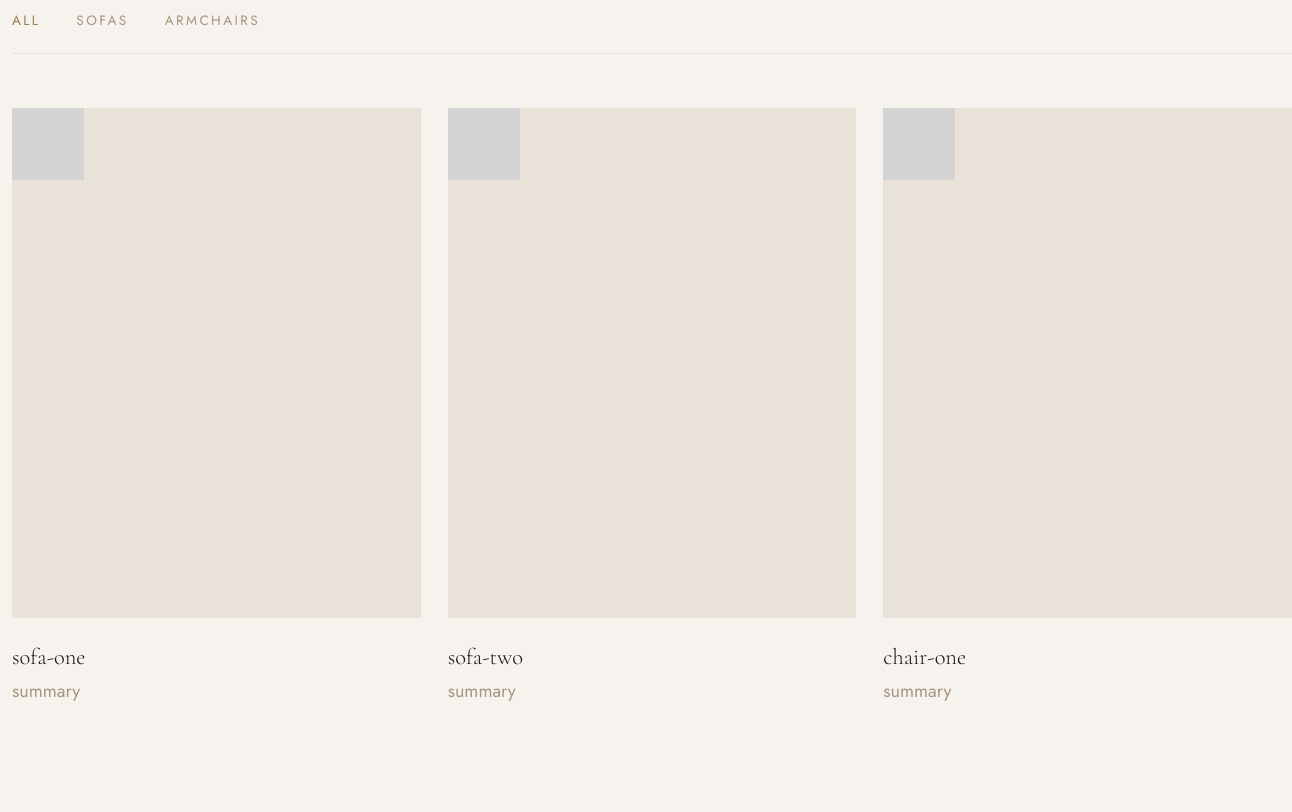
Test: CategoryProducts › filters products when a subcategory is selected
Click the button "Armchairs".
click(212, 21)  # box [165,12,260,30]
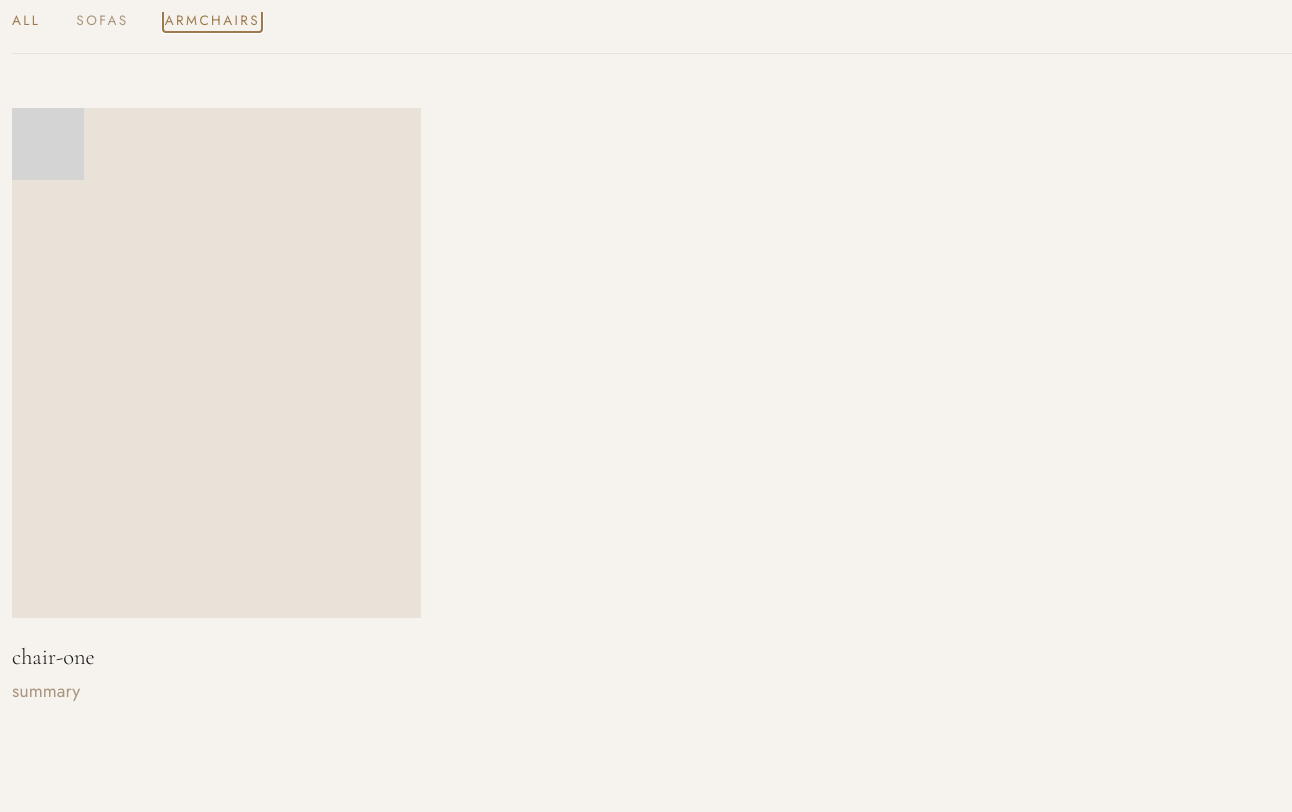
expect the heading "chair-one" is shown: met, box [12,643,95,670]
expect the link "sofa-one" is gone: met
